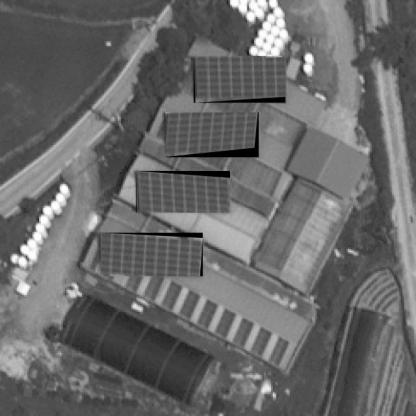solar-pv-panel: (101, 233, 203, 276), (136, 172, 230, 213), (194, 56, 285, 98), (166, 112, 258, 153)
